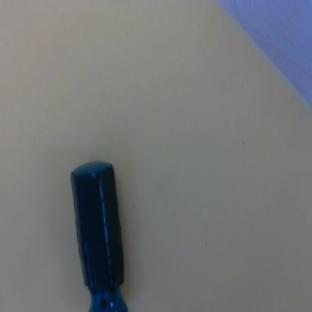part_2_bad: (68, 159, 130, 312)
